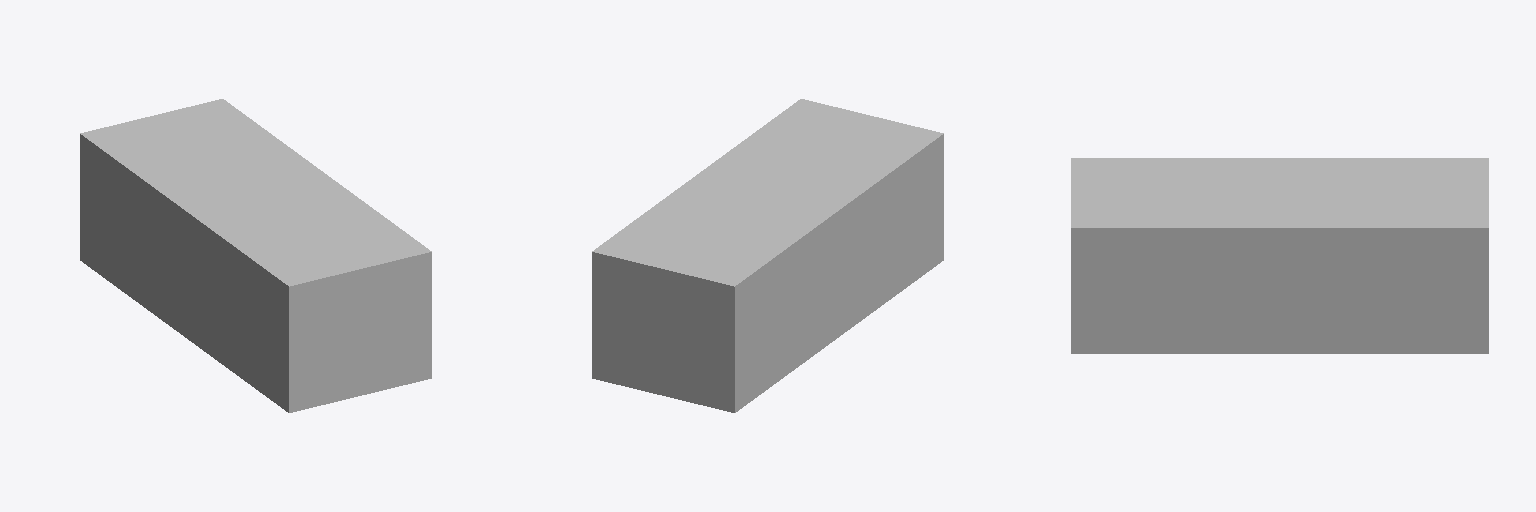
File: Room4HitboxData.obj
The picture shows the model from 3 angles: view 1: azimuth 30°, elevation 25°; view 2: azimuth 150°, elevation 25°; view 3: azimuth 270°, elevation 25°; orthographic projection.
Size of the model in its own units: 71.8 by 60.8 by 182.